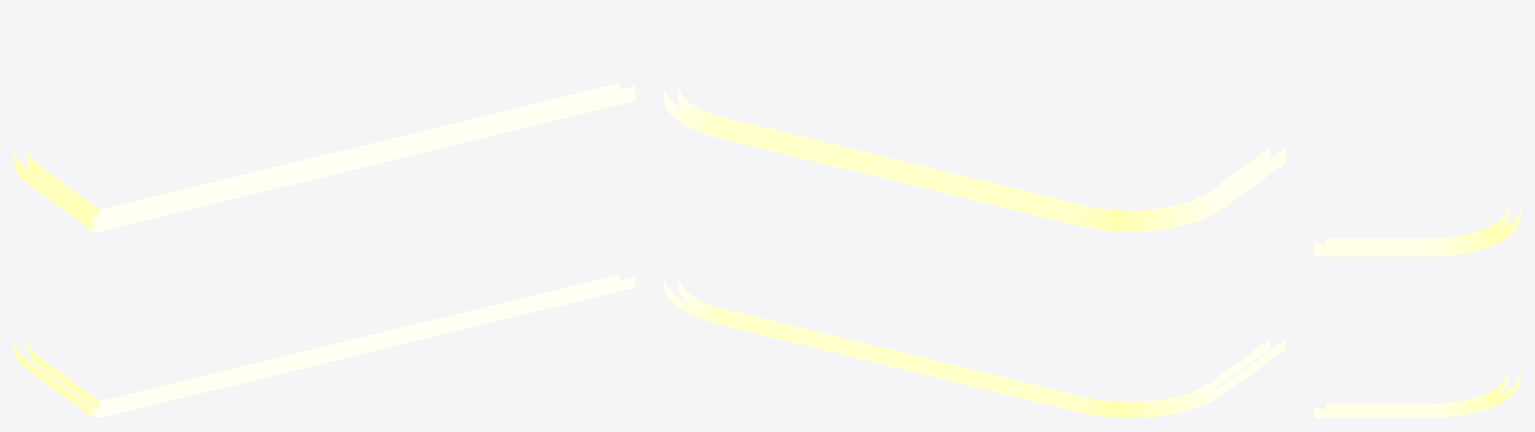
The model's file is strip_g.glb.
The picture shows the model from 3 angles, left to right: view 1: azimuth 30°, elevation 25°; view 2: azimuth 150°, elevation 25°; view 3: azimuth 270°, elevation 25°; orthographic projection. The views are drawn at different scales.
Parts seen in each view (by area): view 1: strip; view 2: strip; view 3: strip.
Part boxes in pixels (x1,y1,x2,y2): strip: (14,83,635,417); strip: (664,83,1285,417); strip: (1314,205,1520,417).
Size of the model in its own units: 2.26 by 0.8 by 0.86.
